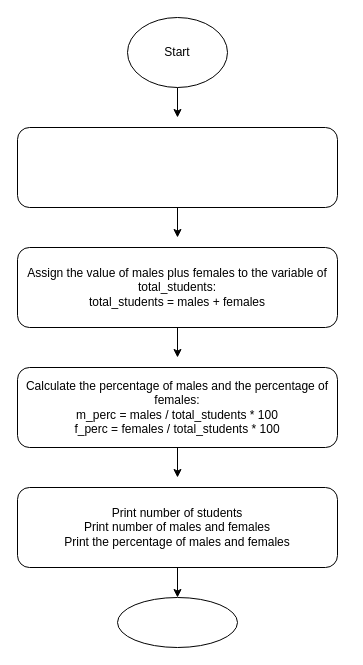
Some shapes in this 363 by 665 pixel diagram are drawn without their labels. The shapes that lost their labels are listed below. From the top down, each one's box as (x1, y1, x2, y2) in pixels, then its label:
(16, 126, 338, 208): Ask the user to input two integer values to, males variable and females variable
(116, 596, 238, 648): End
